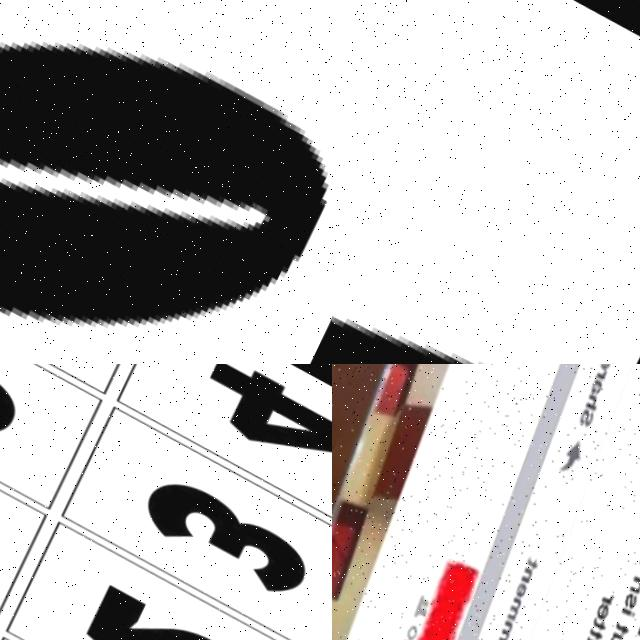2: (79, 565, 271, 640)
3: (137, 451, 327, 599)
4: (187, 364, 332, 479)
J: (332, 123, 582, 364)
Q: (0, 0, 332, 364)
